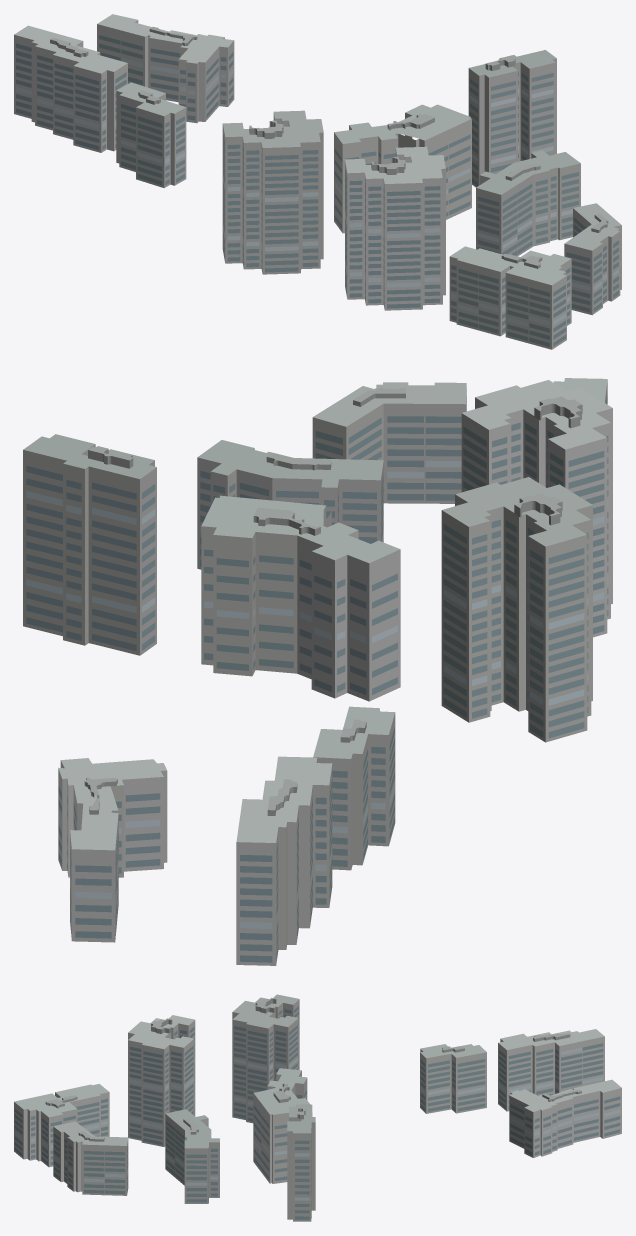
The model's file is apt-a15210001.glb.
3 renders of one model, top to bottom at view 1: azimuth 30°, elevation 25°; view 2: azimuth 150°, elevation 25°; view 3: azimuth 270°, elevation 25°, orthographic. The views are drawn at different scales.
Parts seen in each view (by area): view 1: apt-a15210001; view 2: apt-a15210001; view 3: apt-a15210001.
Boxes of the visible parts, x1,y1,x2,y2 form: apt-a15210001: [14, 14, 621, 349]; apt-a15210001: [23, 378, 612, 965]; apt-a15210001: [14, 994, 621, 1221].
Bounding box in the file's own units: 140 × 51 × 274.
